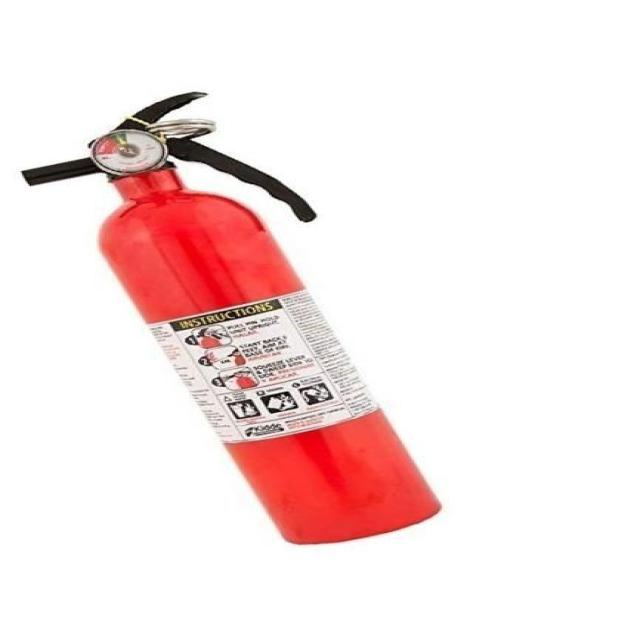fire_extinguisher: (16, 86, 453, 551)
